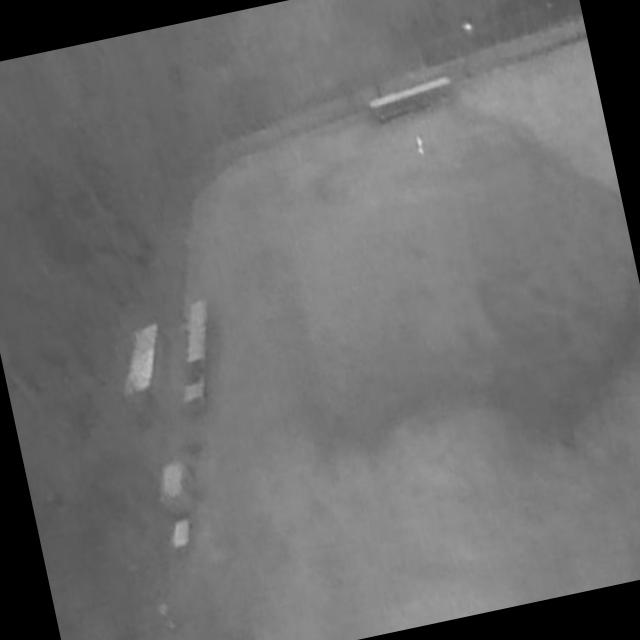person: (414, 135, 429, 160)
